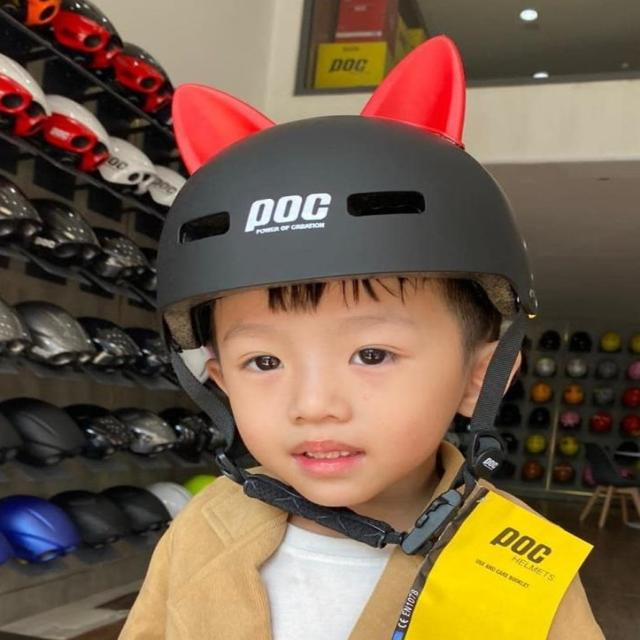Helmet: (126, 25, 544, 528)
